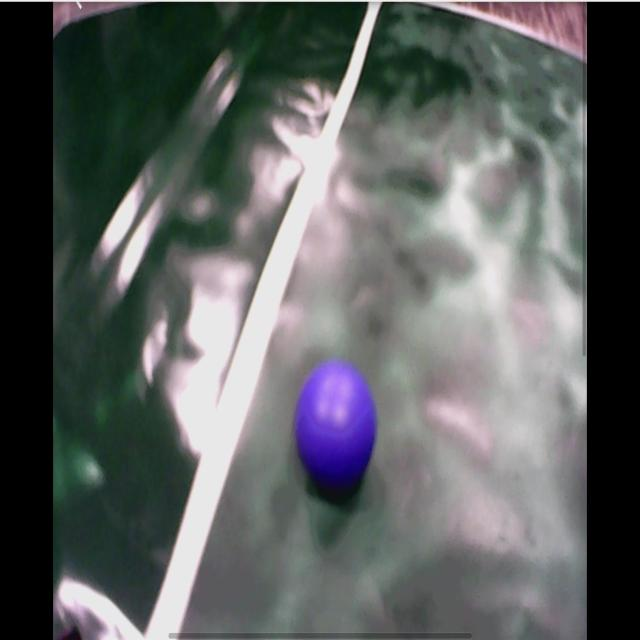ball: (294, 359, 378, 489)
